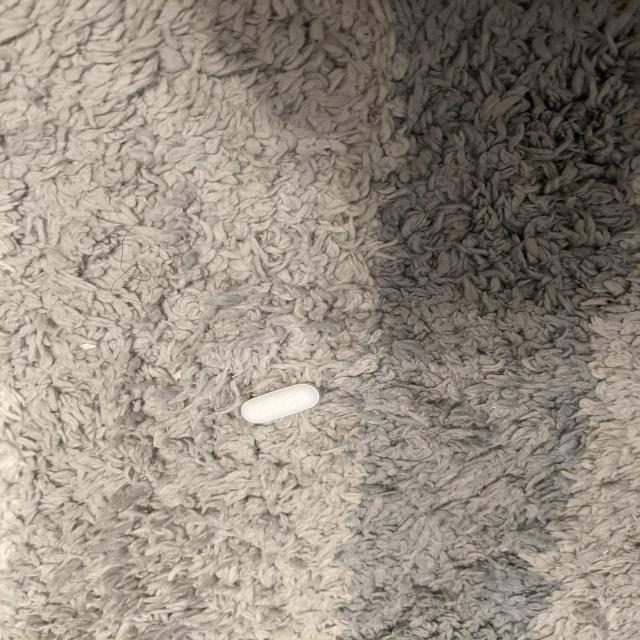non-organic waste: (240, 381, 322, 424)
